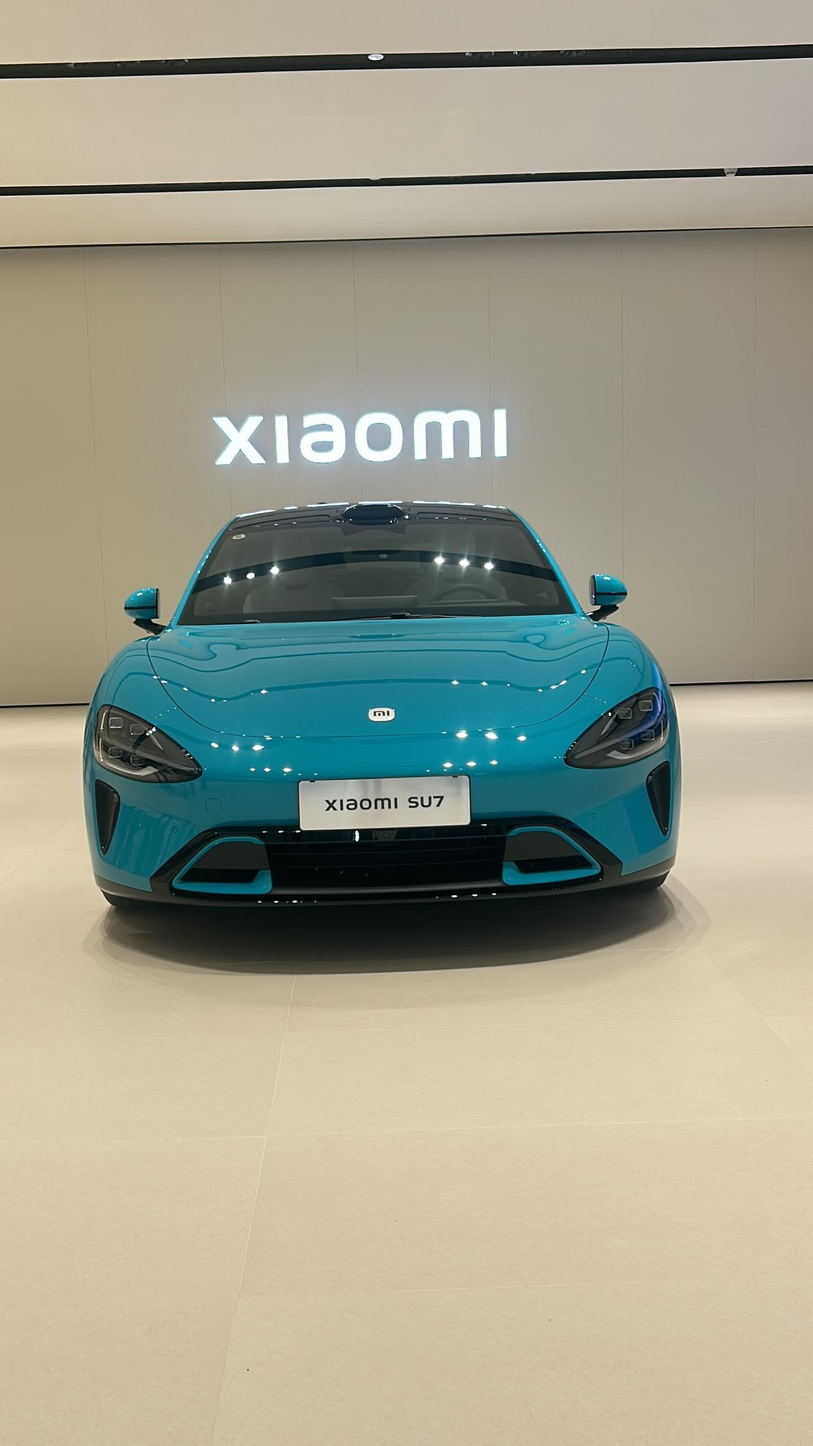su7: (85, 490, 681, 925)
